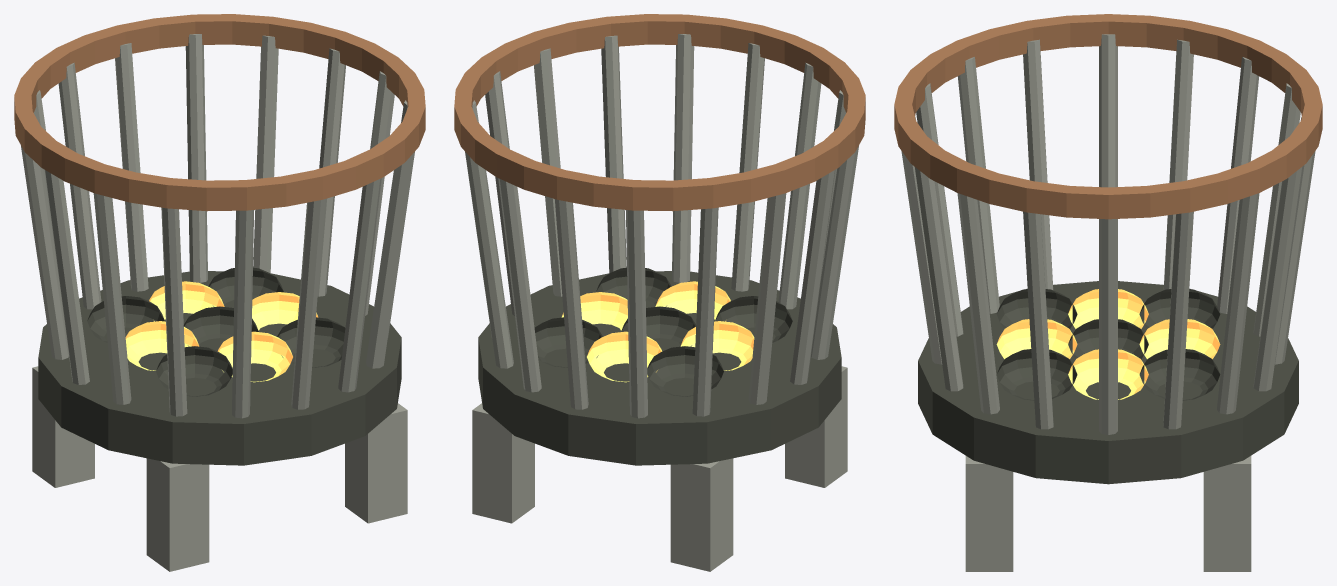
File: reclamation-yard-static-ember-brazier__238.glb
3 renders of one model, left to right at view 1: azimuth 30°, elevation 25°; view 2: azimuth 150°, elevation 25°; view 3: azimuth 270°, elevation 25°, orthographic. The views are drawn at different scales.
Visible parts, largest first — view 1: metal, dark, accent, light; view 2: metal, dark, accent, light; view 3: metal, dark, accent, light.
Boxes of the visible parts, left/top/right/bottom form: metal: left=21, top=34, right=414, bottom=571; dark: left=38, top=267, right=401, bottom=465; accent: left=14, top=14, right=425, bottom=211; light: left=125, top=281, right=318, bottom=382; metal: left=465, top=34, right=858, bottom=571; dark: left=478, top=267, right=841, bottom=465; accent: left=454, top=14, right=865, bottom=211; light: left=561, top=281, right=754, bottom=382; metal: left=901, top=34, right=1315, bottom=571; dark: left=918, top=281, right=1298, bottom=484; accent: left=894, top=14, right=1322, bottom=219; light: left=996, top=289, right=1220, bottom=399.
Size of the model in its own units: 0.72 by 0.755 by 0.72.
